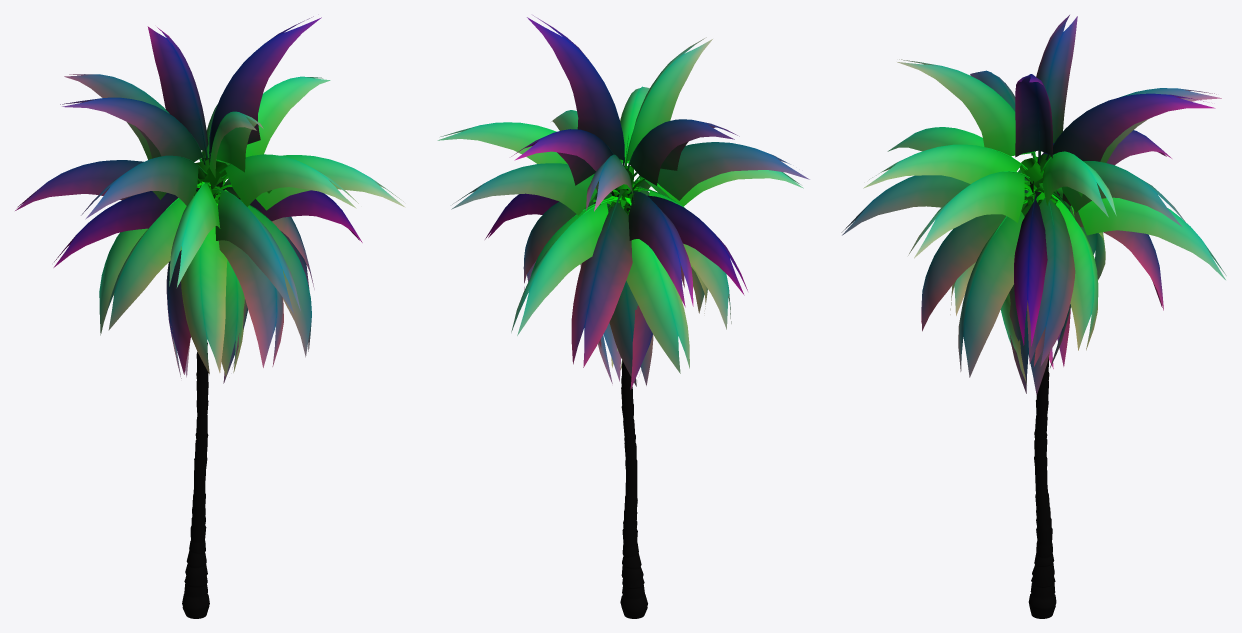
Rendered from CoconutPalm.fbx.
The picture shows the model from 3 angles, left to right: view 1: azimuth 30°, elevation 25°; view 2: azimuth 150°, elevation 25°; view 3: azimuth 270°, elevation 25°; orthographic projection. The views are drawn at different scales.
Parts seen in each view (by area): view 1: coconutpalm; view 2: coconutpalm; view 3: coconutpalm.
Boxes of the visible parts, x1,y1,x2,y2 form: coconutpalm: (15, 16, 405, 618); coconutpalm: (437, 15, 809, 618); coconutpalm: (841, 15, 1226, 618).
Size of the model in its own units: 268 by 467 by 278.
